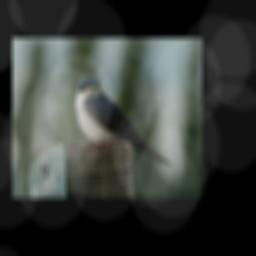Swallow: (75, 76, 172, 167)
